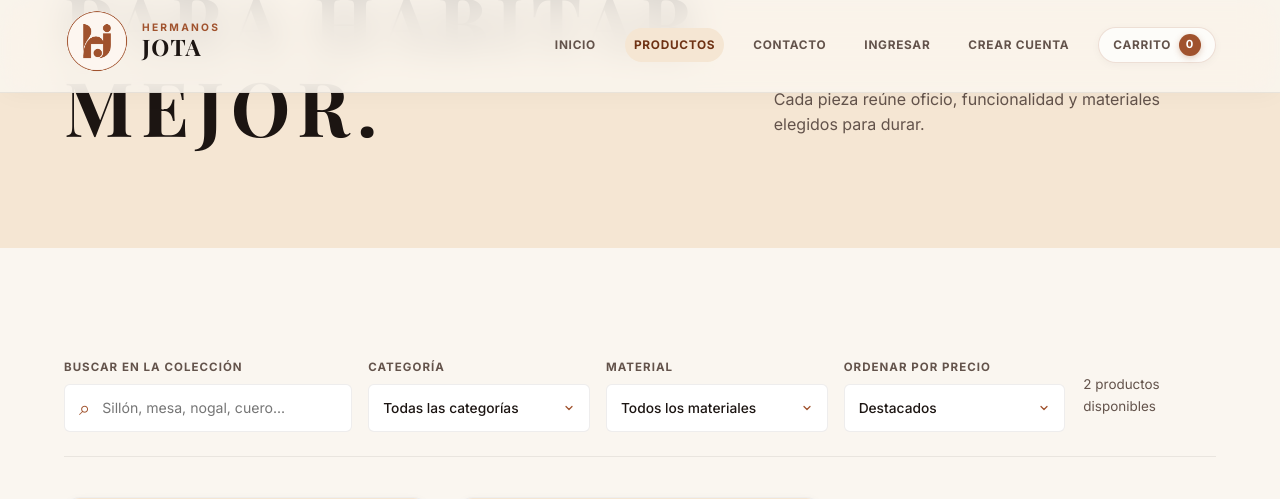
it: filtra el catálogo por material
(page scrolled)
Select "Madera maciza" in the dropdown labelled "Material". click: (717, 408)
box: [606,384,828,432]
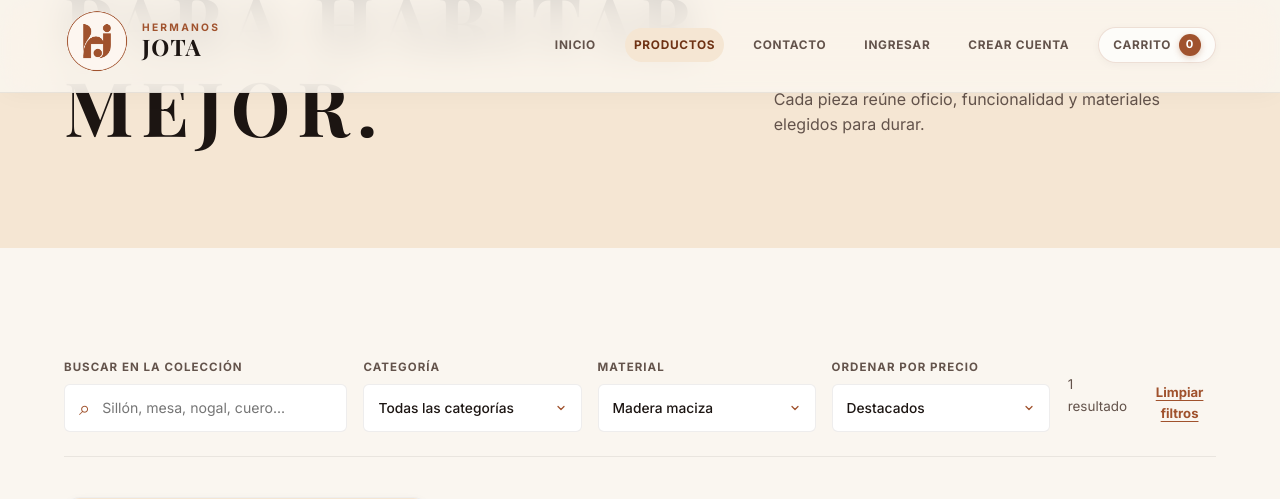
Expected: the text "1 resultado" is shown, [1068,374,1127,432]
